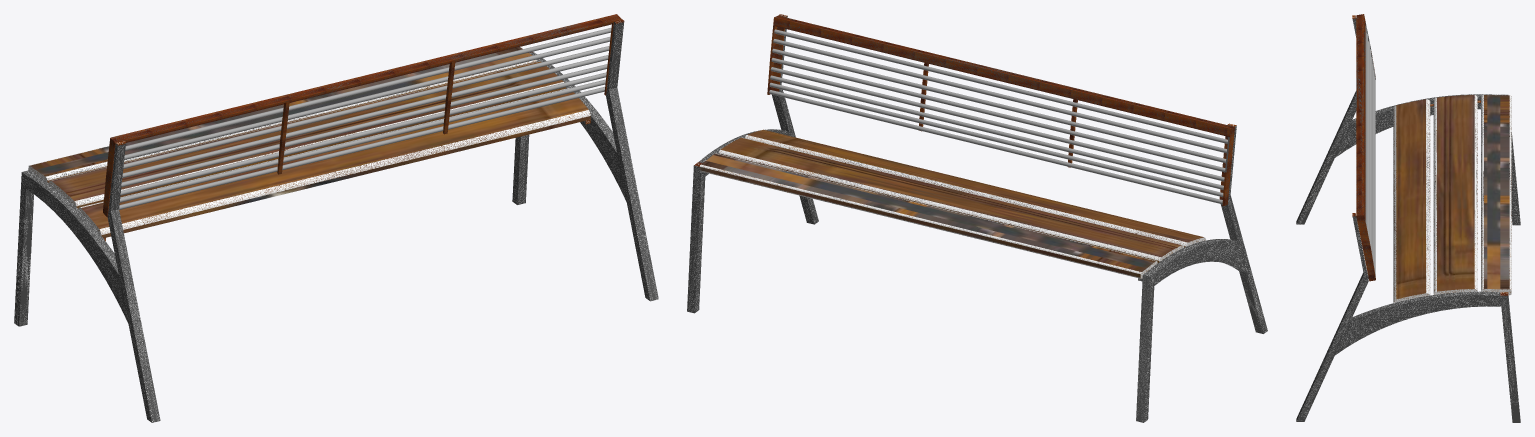
3 views of the same model, side by side, from view 1: azimuth 30°, elevation 25°; view 2: azimuth 150°, elevation 25°; view 3: azimuth 270°, elevation 25° (orthographic). The views are drawn at different scales.
Parts seen in each view (by area): view 1: mesh10_mesh10-geometry, mesh1_mesh1-geometry, mesh5_mesh5-geometry, mesh4_mesh4-geometry; view 2: mesh10_mesh10-geometry, mesh1_mesh1-geometry, mesh5_mesh5-geometry; view 3: mesh10_mesh10-geometry, mesh5_mesh5-geometry, mesh1_mesh1-geometry.
Boxes of the visible parts, x1,y1,x2,y2 form: mesh10_mesh10-geometry: (14,19,658,422); mesh1_mesh1-geometry: (119,27,611,209); mesh5_mesh5-geometry: (103,14,621,216); mesh4_mesh4-geometry: (277,61,455,174); mesh10_mesh10-geometry: (687,14,1267,422); mesh1_mesh1-geometry: (769,29,1227,204); mesh5_mesh5-geometry: (767,15,1234,205); mesh10_mesh10-geometry: (1296,15,1520,422); mesh5_mesh5-geometry: (1356,14,1375,281); mesh1_mesh1-geometry: (1365,26,1375,275).
Bounding box in the file's own units: 0.829 × 0.4001 × 0.3906.
